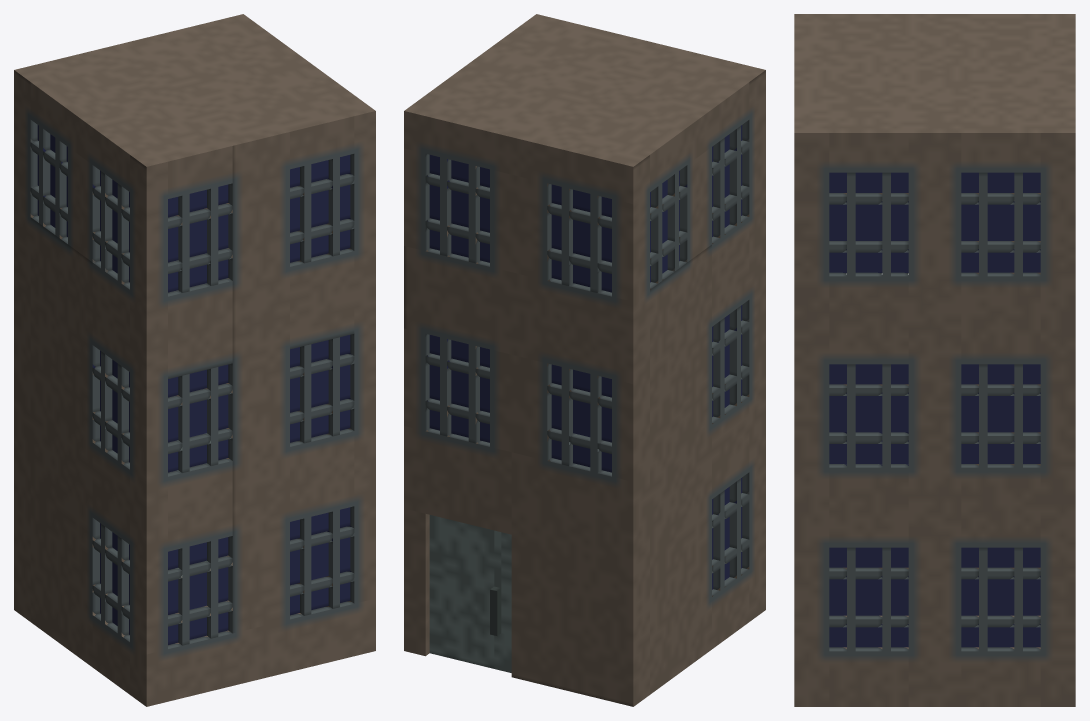
Rendered from budynki_dzielnia_2.dae.
3 renders of one model, left to right at view 1: azimuth 30°, elevation 25°; view 2: azimuth 150°, elevation 25°; view 3: azimuth 270°, elevation 25°, orthographic. The views are drawn at different scales.
Parts seen in each view (by area): view 1: Content; view 2: Content; view 3: Content.
Boxes of the visible parts, bbox=[...] form: Content: bbox=[14, 14, 375, 706]; Content: bbox=[404, 14, 765, 706]; Content: bbox=[794, 14, 1075, 706].
Bounding box in the file's own units: 32 × 72 × 32.
Materials: 1 (1 with a texture image).
